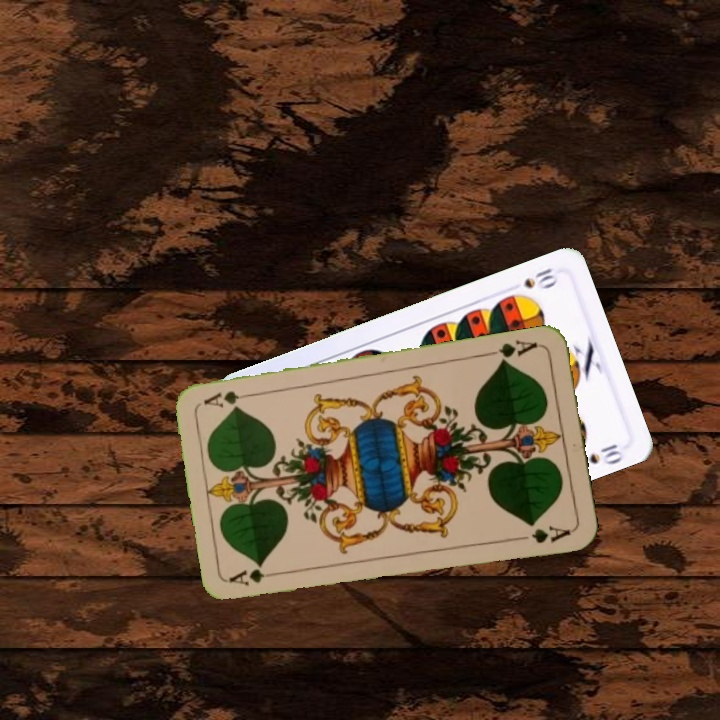GA: (483, 336, 542, 367), (226, 567, 286, 589)
S10: (519, 264, 561, 292)
